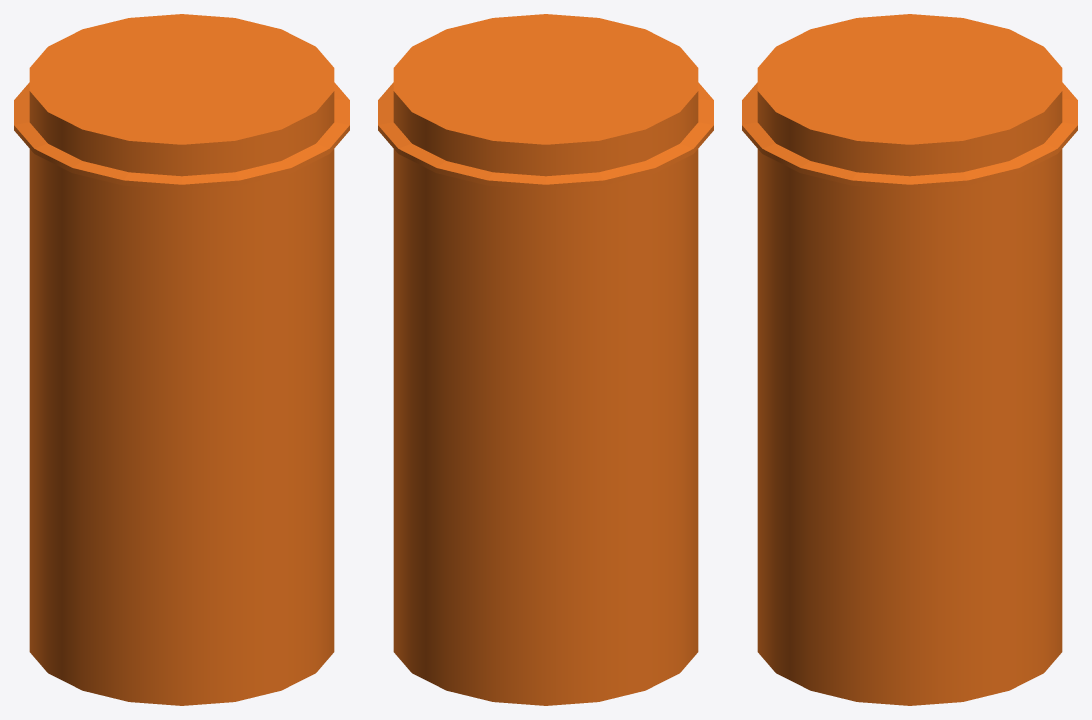
Rendered from PillBox.fbx.
The picture shows the model from 3 angles, left to right: view 1: azimuth 30°, elevation 25°; view 2: azimuth 150°, elevation 25°; view 3: azimuth 270°, elevation 25°; orthographic projection.
Parts seen in each view (by area): view 1: PillsBox; view 2: PillsBox; view 3: PillsBox.
Part boxes in pixels (x1,y1,x2,y2): PillsBox: [14, 14, 349, 705]; PillsBox: [378, 14, 713, 705]; PillsBox: [742, 14, 1077, 705].
Size of the model in its own units: 4.41 by 8 by 4.34.
